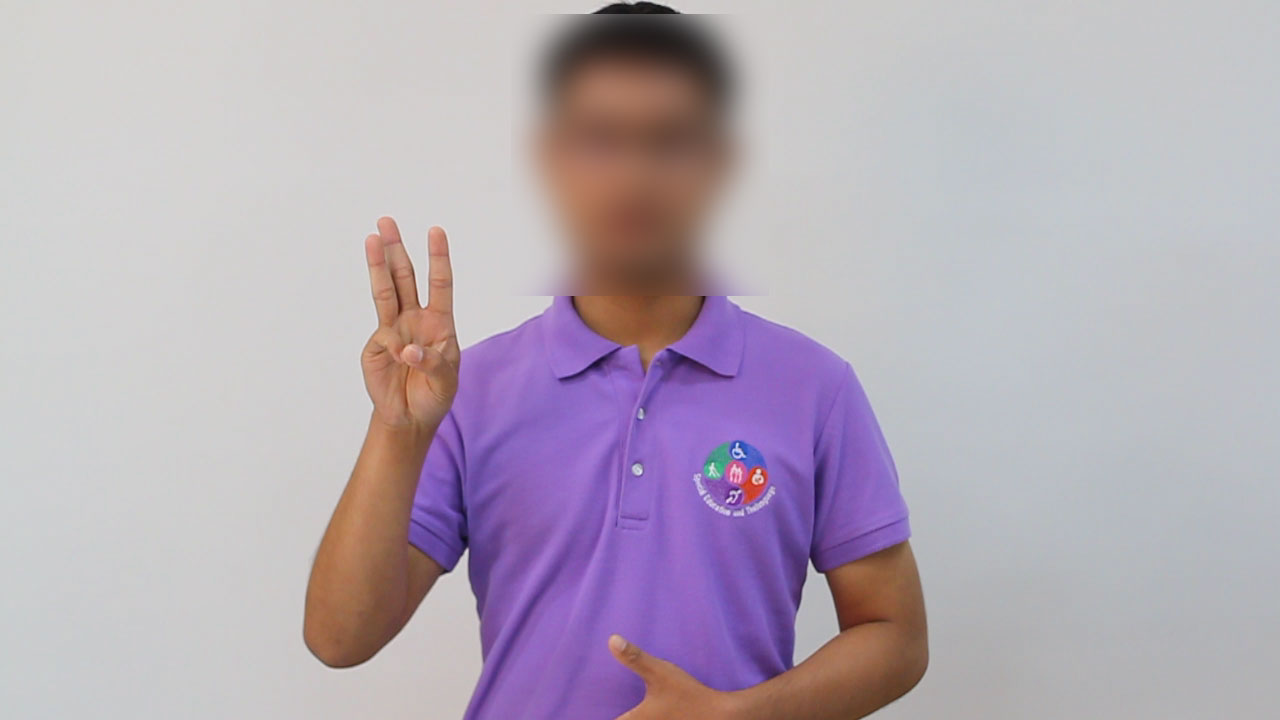wor: (351, 206, 466, 442)
